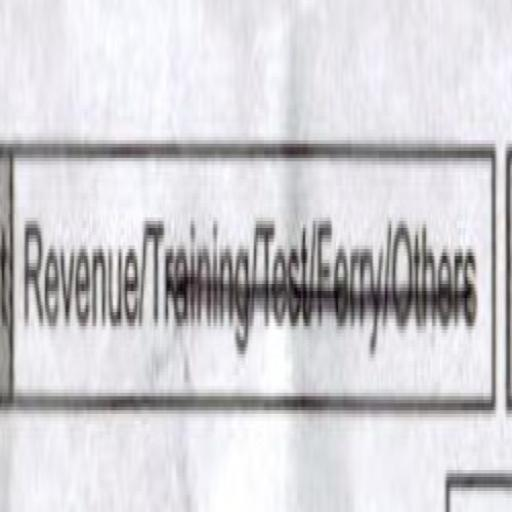check: (12, 130, 139, 434)
